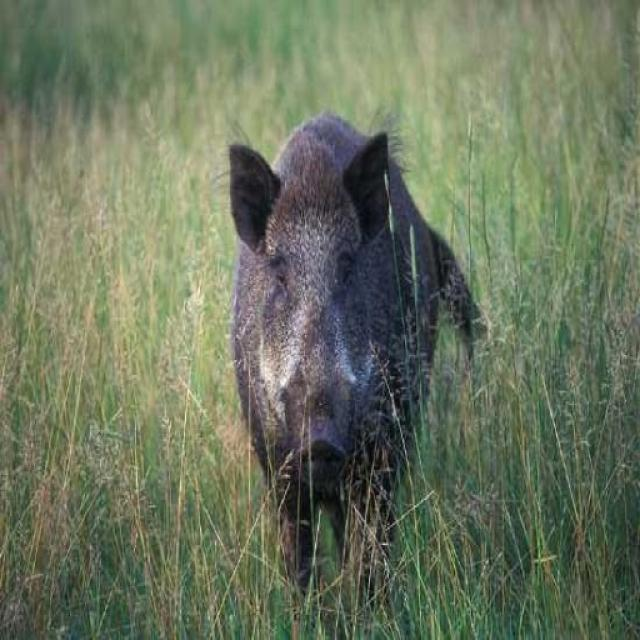pig: (166, 110, 545, 576)
